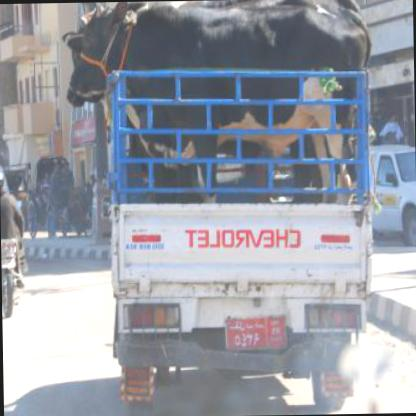truck: (66, 0, 392, 415), (368, 144, 415, 252)
